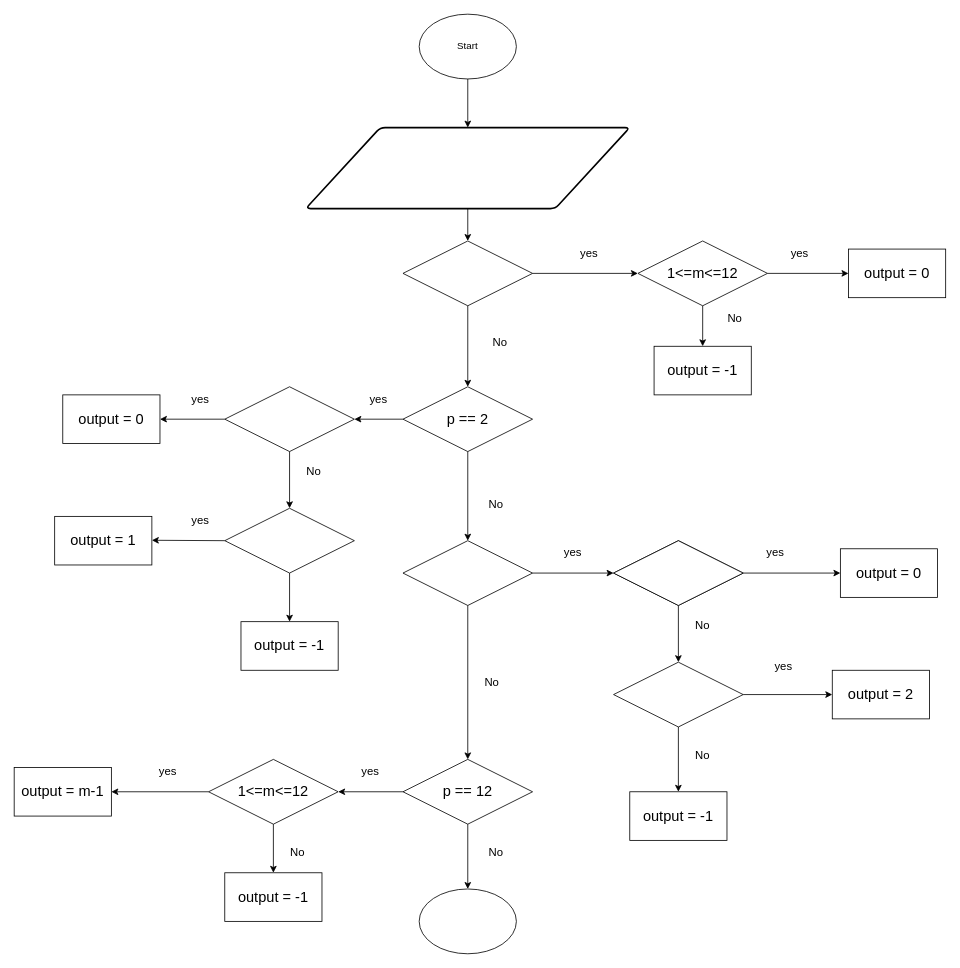
The diagram is 960 pixels wide and 968 high, and some of its shapes have lost their labels. Each missing label, with the box of its shape:
1<=m<=3: (613, 540, 743, 605)
1<=m<=6: (224, 386, 354, 452)
6<=m<=8: (613, 661, 743, 727)
7<=m<=12: (224, 507, 354, 573)
End: (418, 888, 516, 954)
No of periods = p , CurrentMonth = m: (305, 126, 630, 209)
p == 1: (402, 240, 533, 306)
p == 4: (402, 540, 533, 605)
